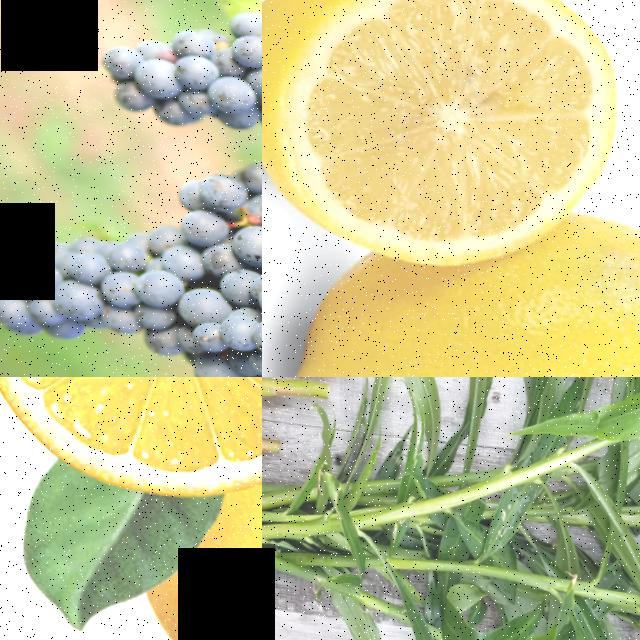grapes: (0, 126, 262, 377), (69, 0, 262, 189)
lemon: (262, 0, 640, 250), (262, 236, 640, 377), (0, 377, 262, 499)
